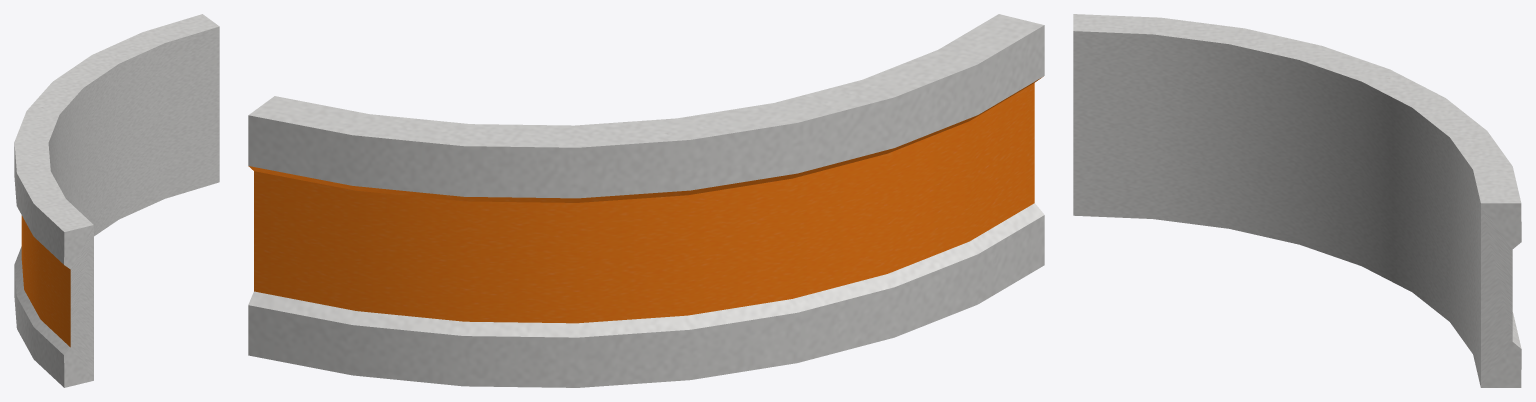
Rendered from Wall_3_Half_Rounded_LOD0.fbx.
3 views of the same model, side by side, from view 1: azimuth 30°, elevation 25°; view 2: azimuth 150°, elevation 25°; view 3: azimuth 270°, elevation 25° (orthographic). The views are drawn at different scales.
Parts seen in each view (by area): view 1: Wall_3_Half_Rounded_LOD0; view 2: Wall_3_Half_Rounded_LOD0; view 3: Wall_3_Half_Rounded_LOD0.
Boxes of the visible parts, x1,y1,x2,y2 form: Wall_3_Half_Rounded_LOD0: (14,14,219,387); Wall_3_Half_Rounded_LOD0: (248,14,1044,387); Wall_3_Half_Rounded_LOD0: (1073,14,1521,387).
Bounding box in the file's own units: 220 × 100 × 220.
